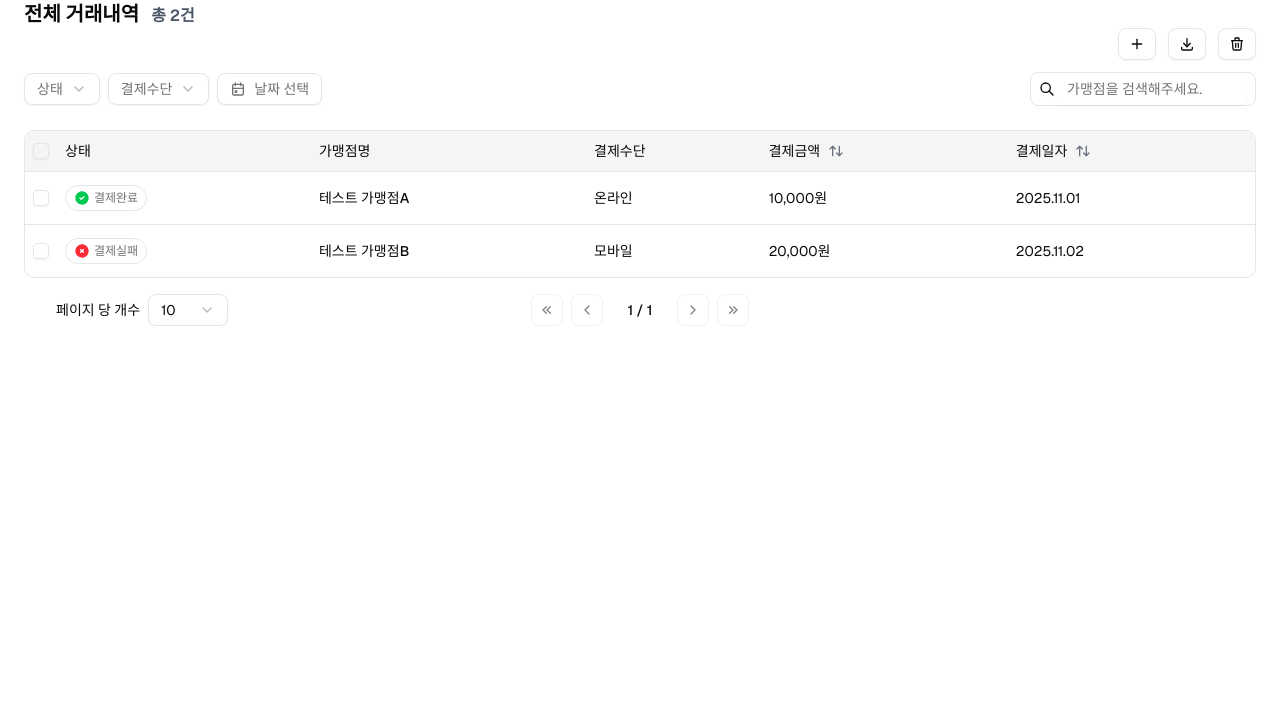
Scenario: 거래내역 테이블 컴포넌트 › 테이블 가맹점 상세 모달 › 해당 가맹점 모달에 상세 정보 데이터가 올바르게 랜더링되어야한다.
Click the button "테스트 가맹점A" at (364,198), box [319,180,409,216]
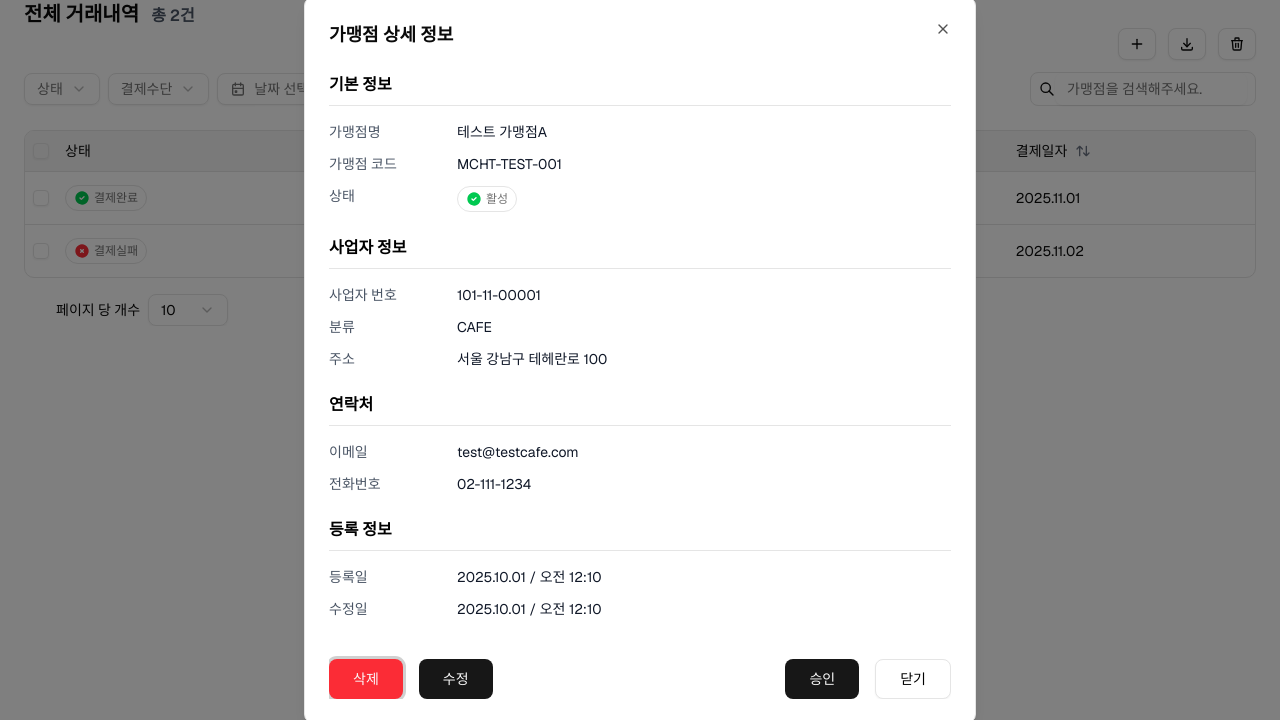
Check: the text "테스트 가맹점A" is shown, box [457,123,547,141]
Check: the text "CAFE" is shown, box [457,318,492,336]
Check: the text "서울 강남구 테헤란로 100" is shown, box [457,350,607,368]
